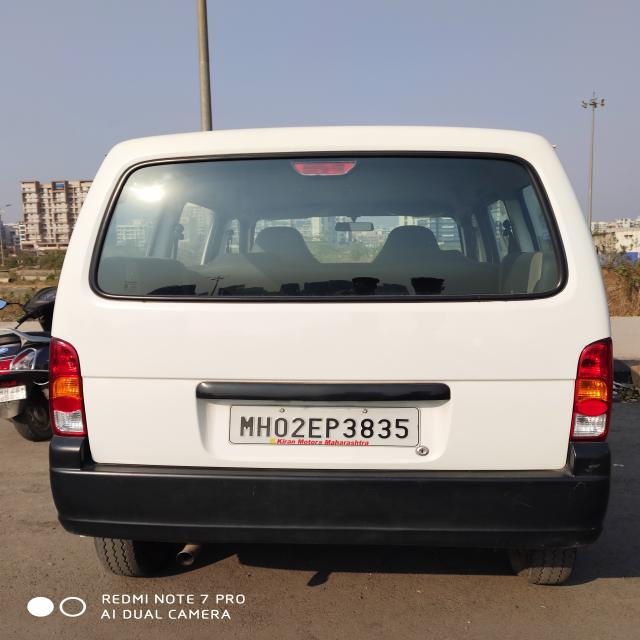Number-Plate: (224, 407, 428, 447)
